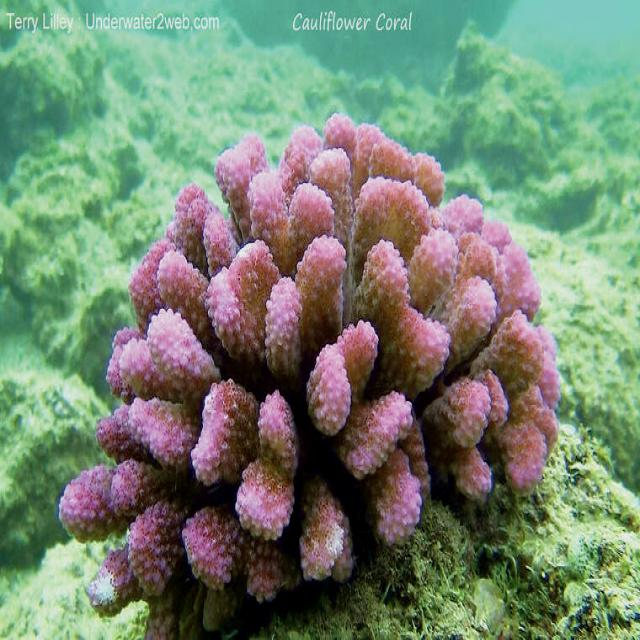Coral: (57, 110, 562, 640)
